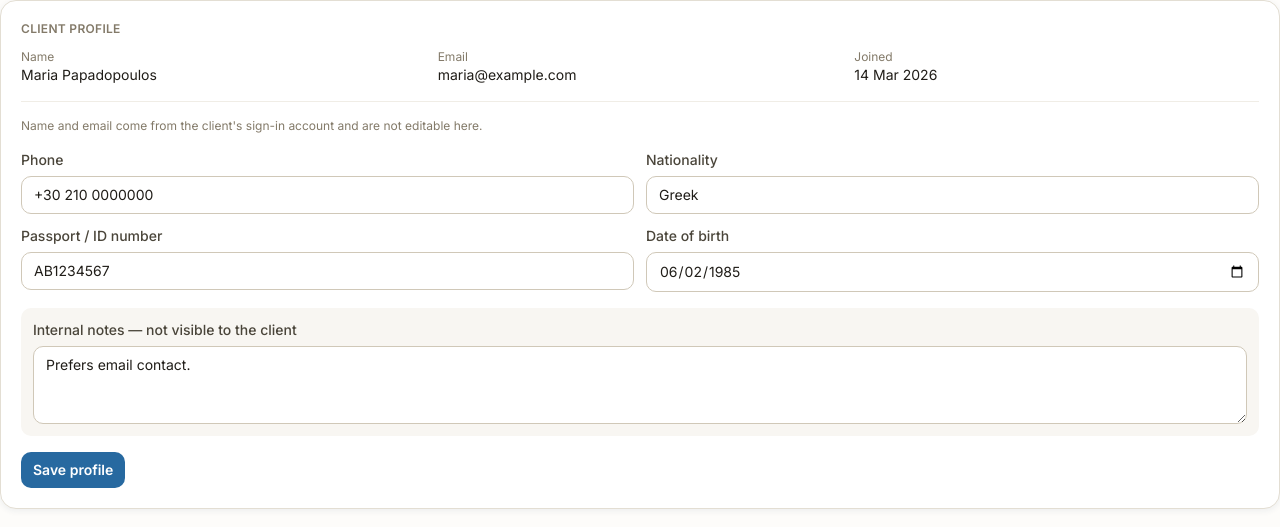
it: ClientProfilePanel › confirms a successful save
Click the button "Save profile". click: coordinates (73, 470)
box: left=21, top=452, right=125, bottom=488
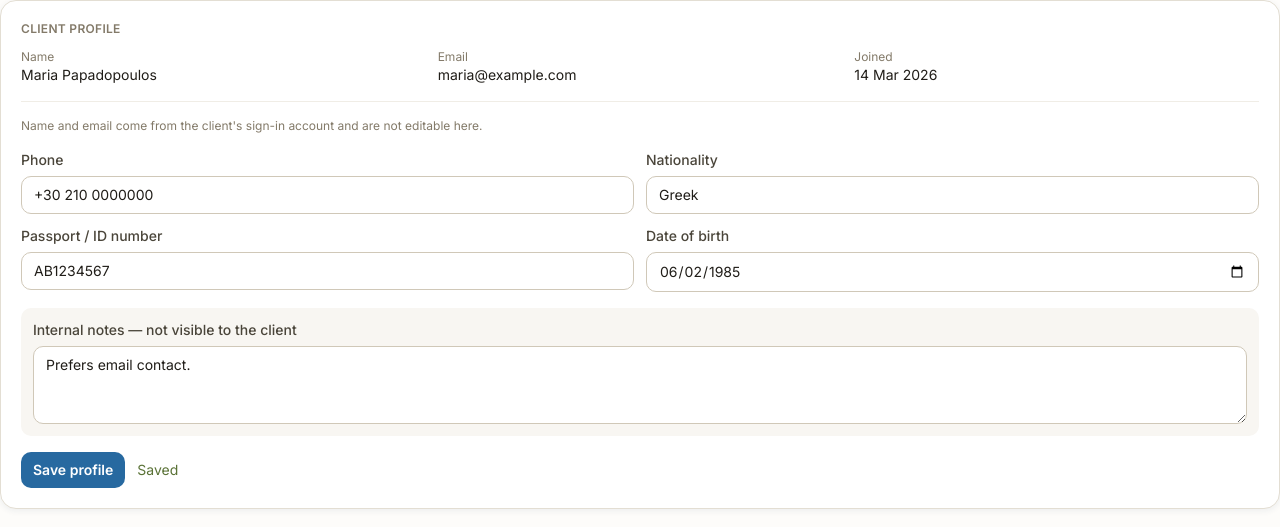
Check: the message reads "Saved", box left=137, top=461, right=178, bottom=478
